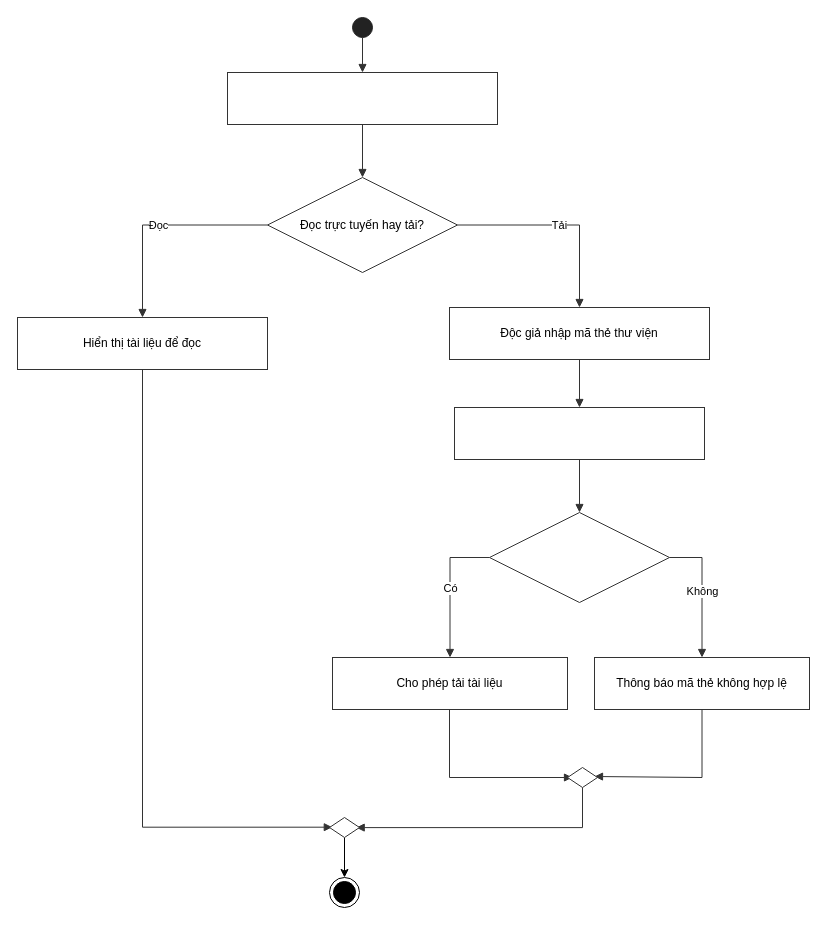
This 827x925 diagram has some shape labels left out. Here are the shapes that lost their labels. From the top down, the box of each, then its label:
(226, 72, 498, 124): Độc giả tìm và chọn tài liệu điện tử
(454, 406, 704, 460): Hệ thống kiểm tra thẻ
(488, 512, 670, 602): Hợp lệ?
